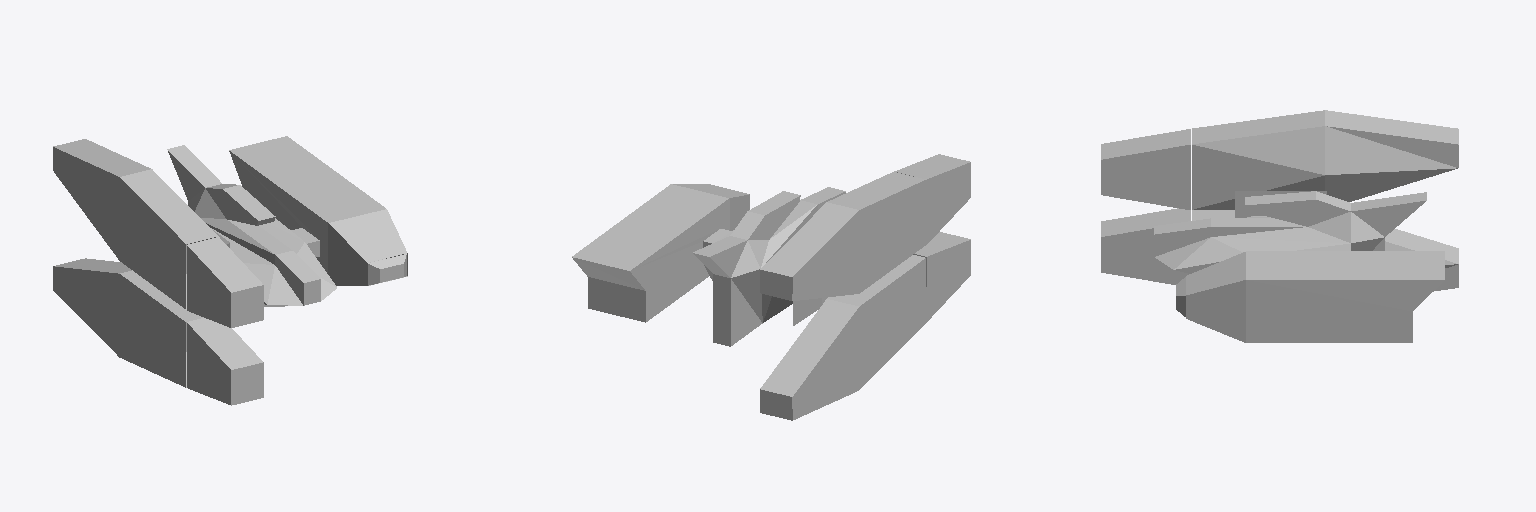
Rendered from Attack Carrier.obj.
3 renders of one model, left to right at view 1: azimuth 30°, elevation 25°; view 2: azimuth 150°, elevation 25°; view 3: azimuth 270°, elevation 25°, orthographic.
Parts seen in each view (by area): view 1: plateR1_ID245.001, plateR2_ID308.001, plateL_ID92.001, redstripeL_ID110.001, redstripeR2_ID344.001, redstripeR1_ID290.001, plate_ID65.001, redstripe_ID173.001, machineL_ID146.001, green_ID191.001, hatchR1_ID272.001, hatchR2_ID335.001 (+2 smaller); view 2: plateR2_ID308.001, plateR1_ID245.001, plateL_ID92.001, machineL_ID146.001, green_ID191.001, ventL_ID101.001, redstripe_ID173.001, redstripeR1_ID290.001, redstripeR2_ID344.001, deck_ID155.001, redstripeL_ID110.001, hatchR1_ID272.001 (+4 smaller); view 3: plateR1_ID245.001, plateL_ID92.001, machineL_ID146.001, redstripe_ID173.001, redstripeR1_ID290.001, green_ID191.001, redstripeL_ID110.001, plate_ID65.001, redstripeR2_ID344.001, plateR2_ID308.001, hatchR1_ID272.001, hatchR2_ID335.001 (+2 smaller).
Part boxes in pixels (x1,y1,x2,y2): plateR1_ID245.001: (53, 139, 218, 308); plateR2_ID308.001: (53, 258, 203, 387); plateL_ID92.001: (229, 136, 385, 222); redstripeL_ID110.001: (328, 209, 406, 285); redstripeR2_ID344.001: (187, 323, 263, 405); redstripeR1_ID290.001: (187, 246, 263, 327); plate_ID65.001: (211, 218, 336, 306); redstripe_ID173.001: (167, 145, 257, 225); machineL_ID146.001: (229, 151, 407, 285); green_ID191.001: (188, 184, 320, 305); hatchR1_ID272.001: (187, 237, 262, 292); hatchR2_ID335.001: (187, 318, 262, 369); plateR2_ID308.001: (760, 255, 925, 419); plateR1_ID245.001: (760, 172, 925, 300); plateL_ID92.001: (572, 184, 728, 270); machineL_ID146.001: (630, 198, 729, 321); green_ID191.001: (730, 187, 845, 345); ventL_ID101.001: (572, 257, 645, 322); redstripe_ID173.001: (693, 195, 800, 277); redstripeR1_ID290.001: (926, 162, 970, 244); redstripeR2_ID344.001: (926, 240, 970, 322); deck_ID155.001: (713, 274, 730, 346); redstripeL_ID110.001: (673, 184, 749, 230); hatchR1_ID272.001: (894, 154, 969, 179); plateR1_ID245.001: (1192, 110, 1458, 209); plateL_ID92.001: (1246, 251, 1444, 342); machineL_ID146.001: (1246, 280, 1444, 311); redstripe_ID173.001: (1245, 192, 1426, 242); redstripeR1_ID290.001: (1101, 145, 1190, 209); green_ID191.001: (1154, 191, 1384, 256); redstripeL_ID110.001: (1186, 252, 1245, 342); plate_ID65.001: (1155, 216, 1350, 273); redstripeR2_ID344.001: (1101, 228, 1188, 284); plateR2_ID308.001: (1192, 210, 1458, 291); hatchR1_ID272.001: (1101, 129, 1190, 159); hatchR2_ID335.001: (1101, 208, 1190, 236).
Size of the model in its own units: 1092 by 826 by 1484.